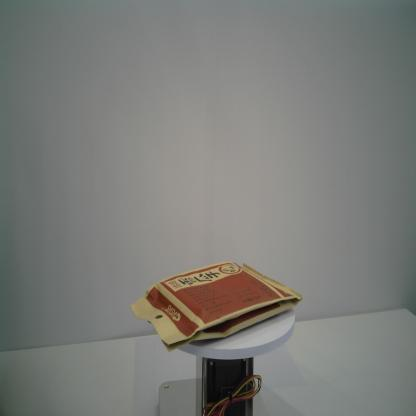Dried Food: (129, 261, 303, 353)
